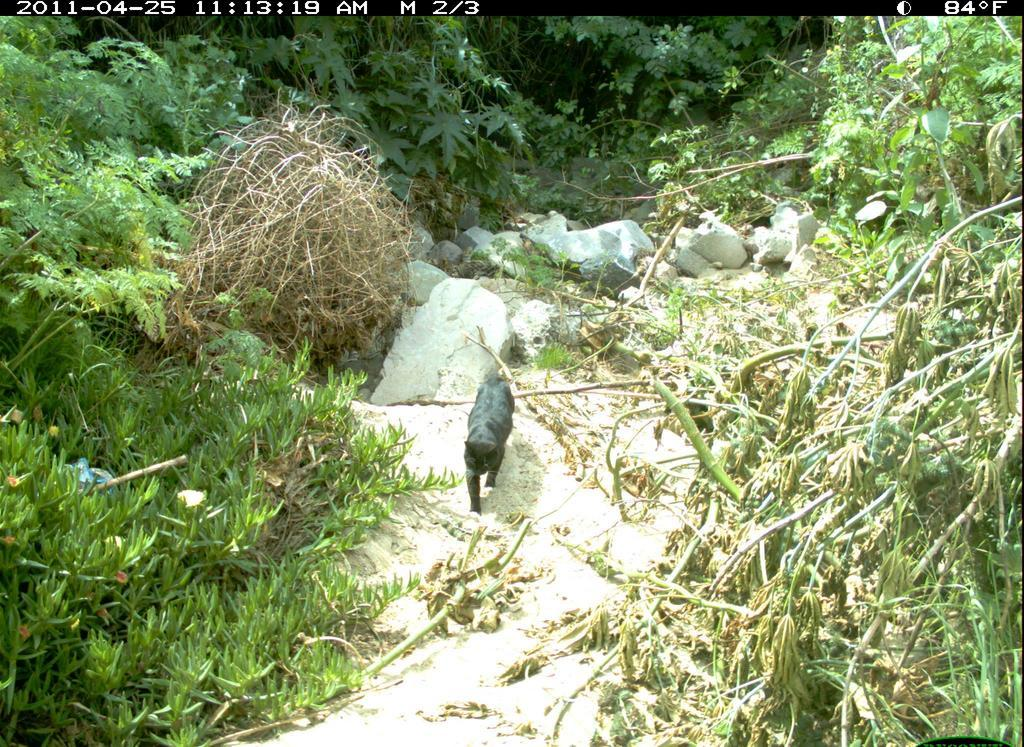cat: (456, 349, 527, 524)
